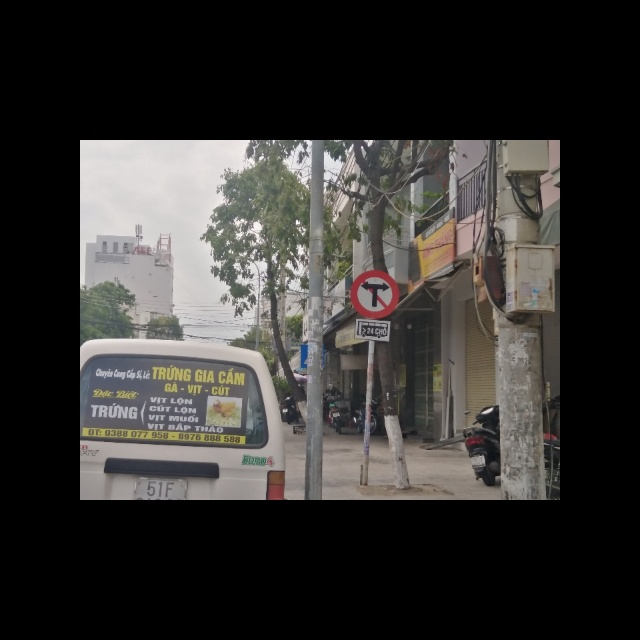Cấm rẽ trái và rẽ phải: (349, 270, 399, 320)
